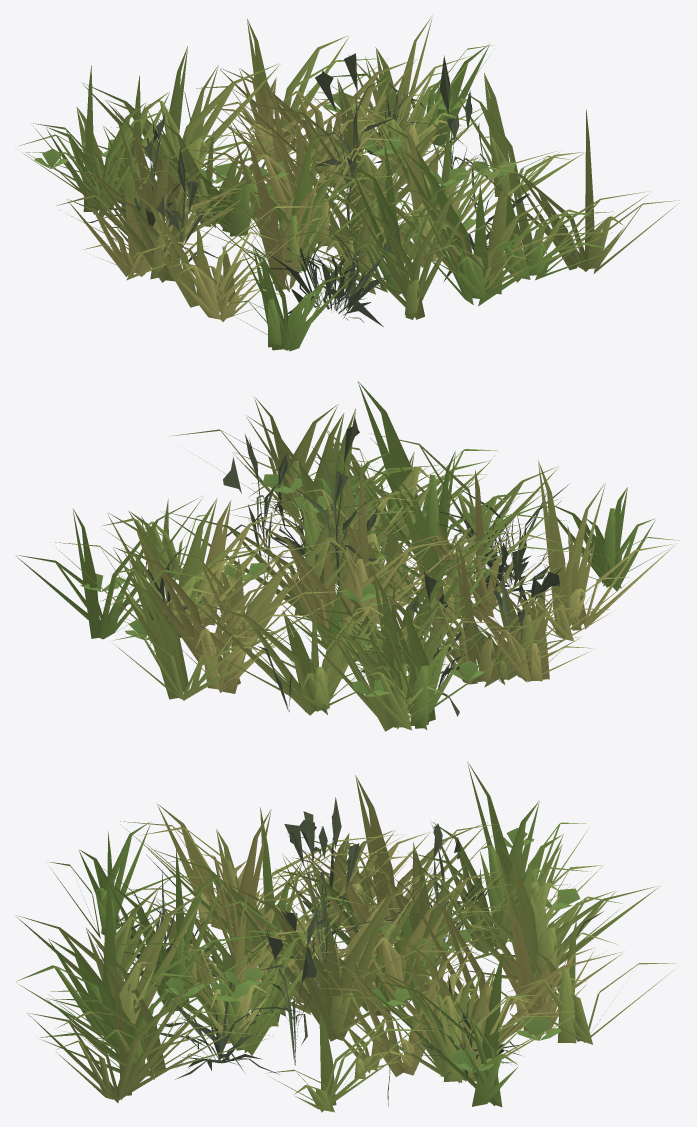
The model's file is meadow-leaves.glb.
3 renders of one model, top to bottom at view 1: azimuth 30°, elevation 25°; view 2: azimuth 150°, elevation 25°; view 3: azimuth 270°, elevation 25°, orthographic. The views are drawn at different scales.
Parts seen in each view (by area): view 1: Meadow, MeadowFar, MeadowMid; view 2: Meadow, MeadowFar, MeadowMid; view 3: Meadow, MeadowFar, MeadowMid.
Part boxes in pixels (box(x1,y1,x2,y2)): Meadow: box(19, 16, 678, 350); MeadowFar: box(23, 18, 677, 351); MeadowMid: box(56, 42, 641, 350); Meadow: box(17, 381, 678, 731); MeadowFar: box(16, 381, 674, 730); MeadowMid: box(56, 414, 646, 729); Meadow: box(16, 762, 676, 1112); MeadowFar: box(16, 762, 678, 1111); MeadowMid: box(54, 799, 622, 1112).
Bounding box in the file's own units: 1.31 × 0.5062 × 1.36.
